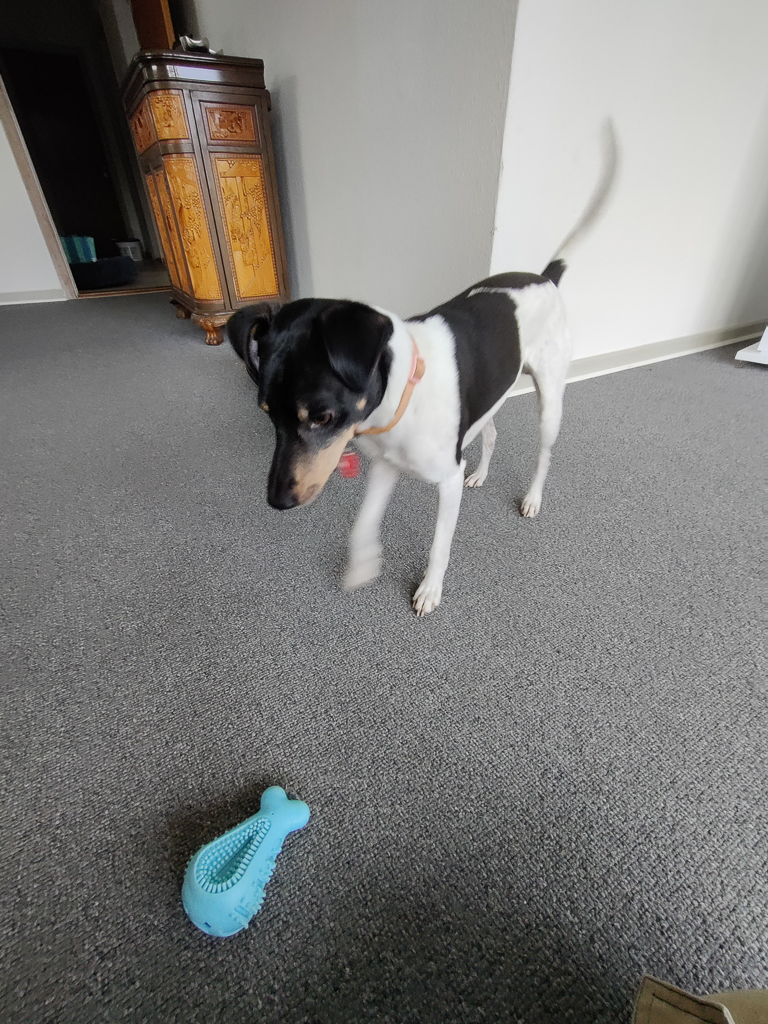Dog: (212, 88, 639, 625)
Humanoid: (588, 942, 768, 1024)
